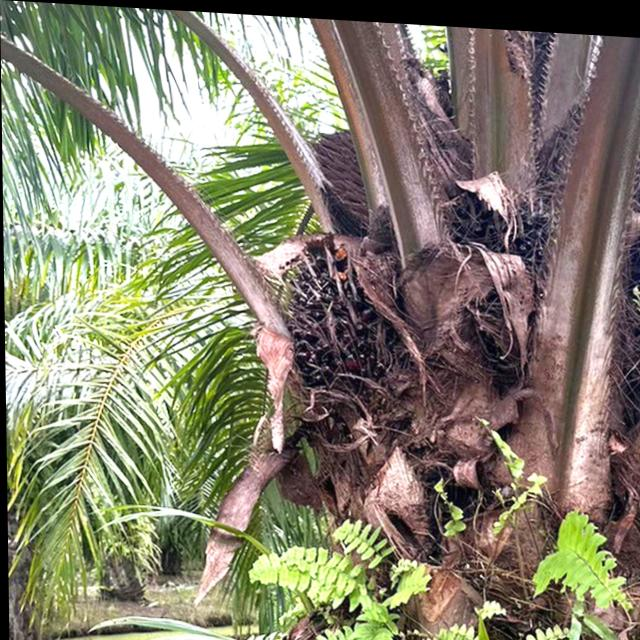ripe: (270, 222, 404, 415)
